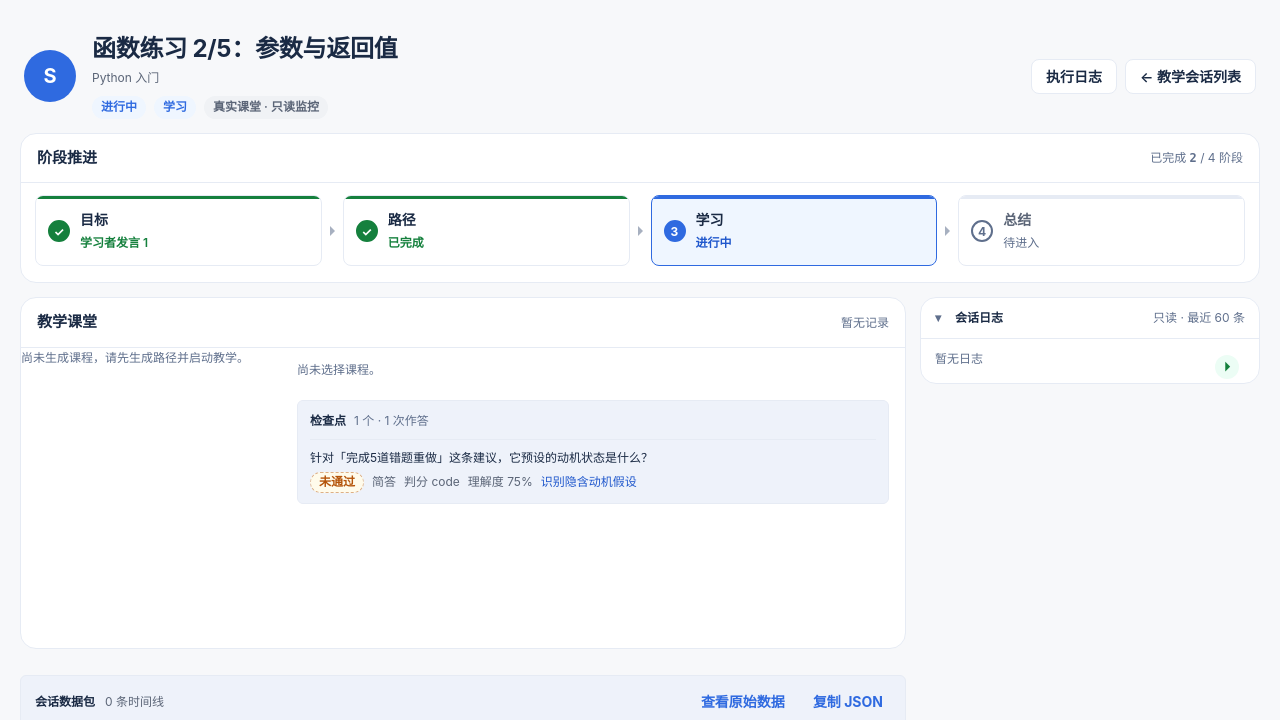
Test: SessionCockpit 双模式 › 真实模式：无映射数据时优雅降级（goal/path 空态明示数据边界）
Click the tab with class "cp-stp" showing "✓ 路径 已完成". click: click(406, 243)
box: [343,195,630,266]
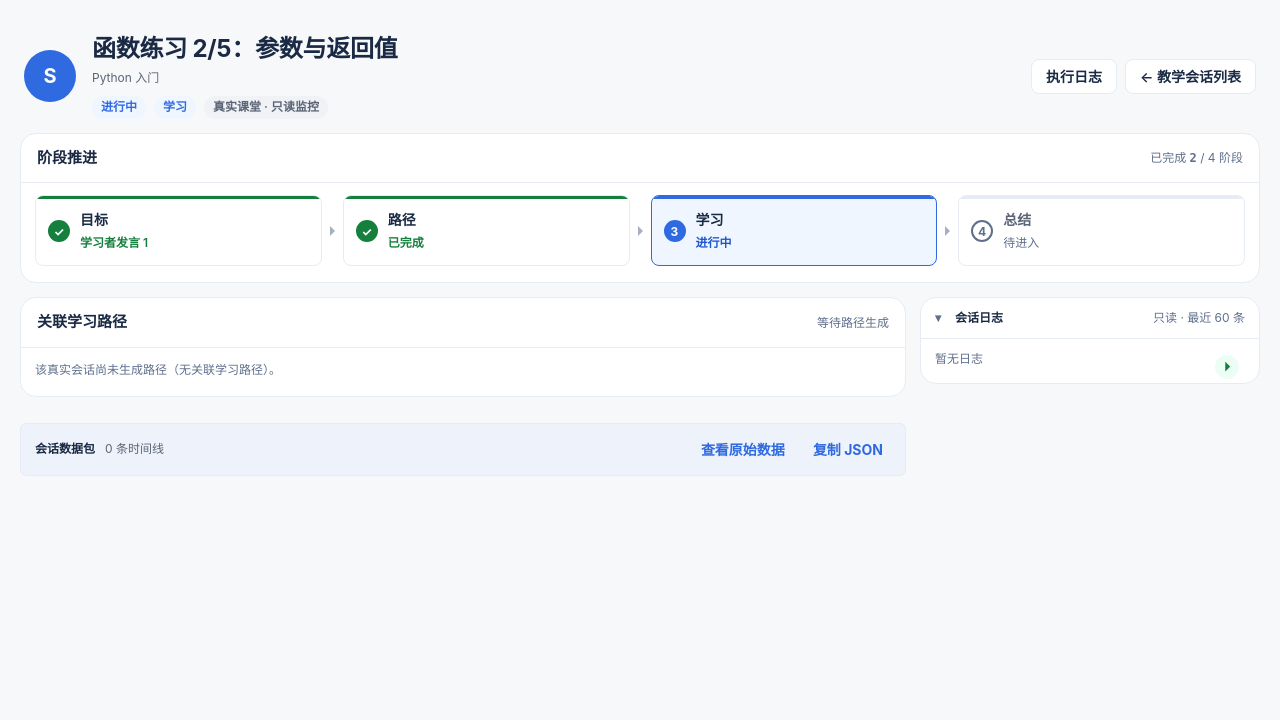
Expected: the text "该真实会话尚未生成路径" is shown, [35,362,281,377]
Note: Learn tab：真实模式无教学记录空态
Click the tab with class "cp-stp" showing "3 学习 进行中". click: click(714, 243)
box: [650,195,937,266]
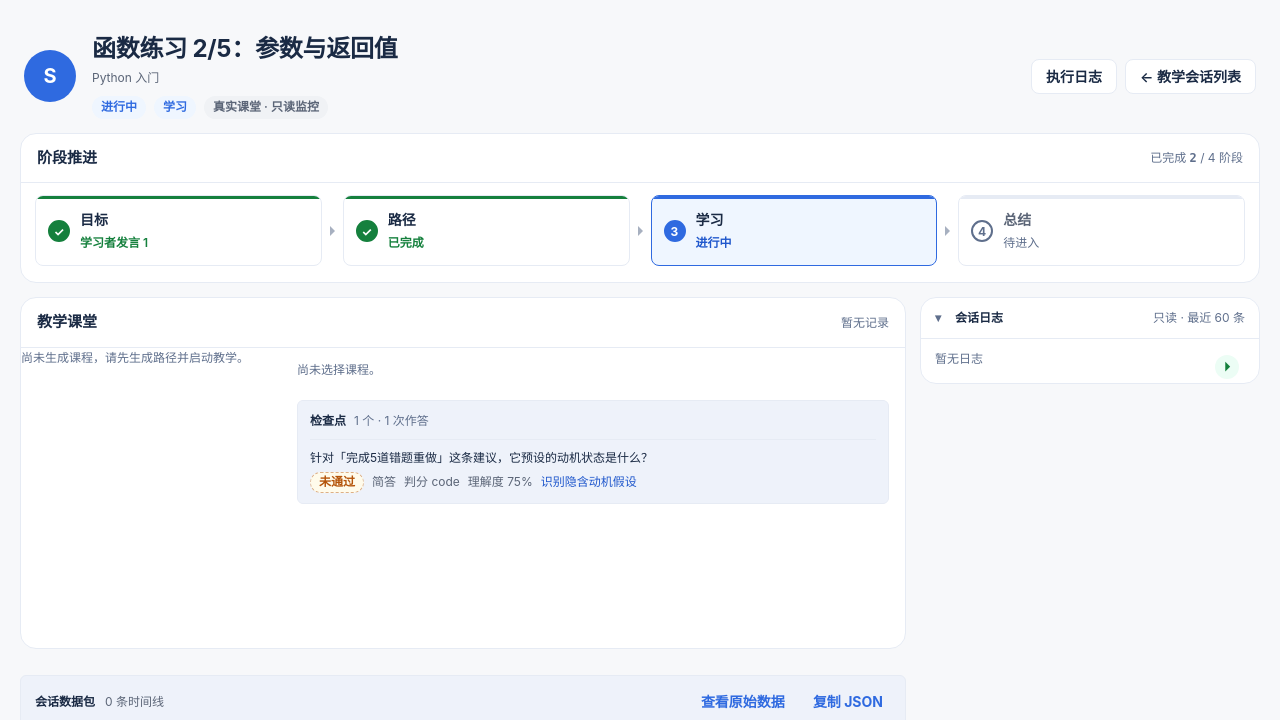
Expected: the text "尚未生成课程" is shown, [21,350,249,365]
